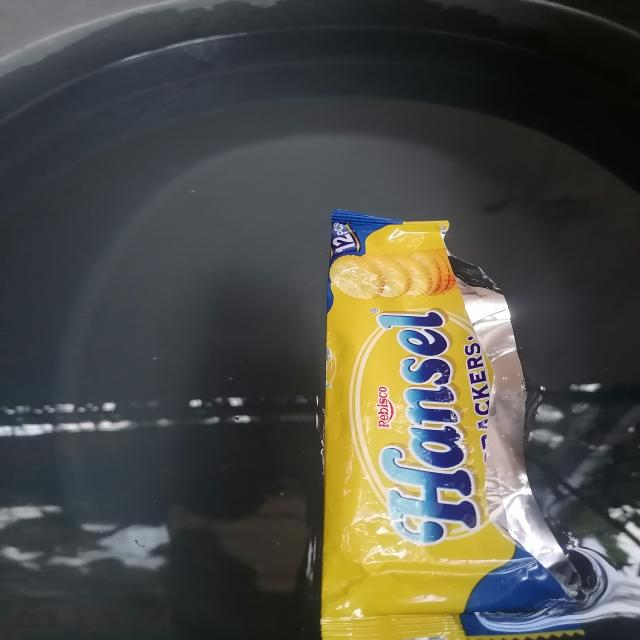Plastic Wrapper: (321, 210, 638, 640)
